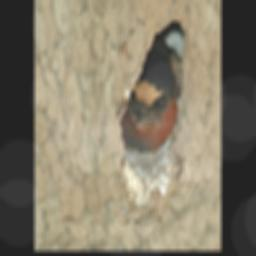Swallow: (120, 35, 179, 153)
